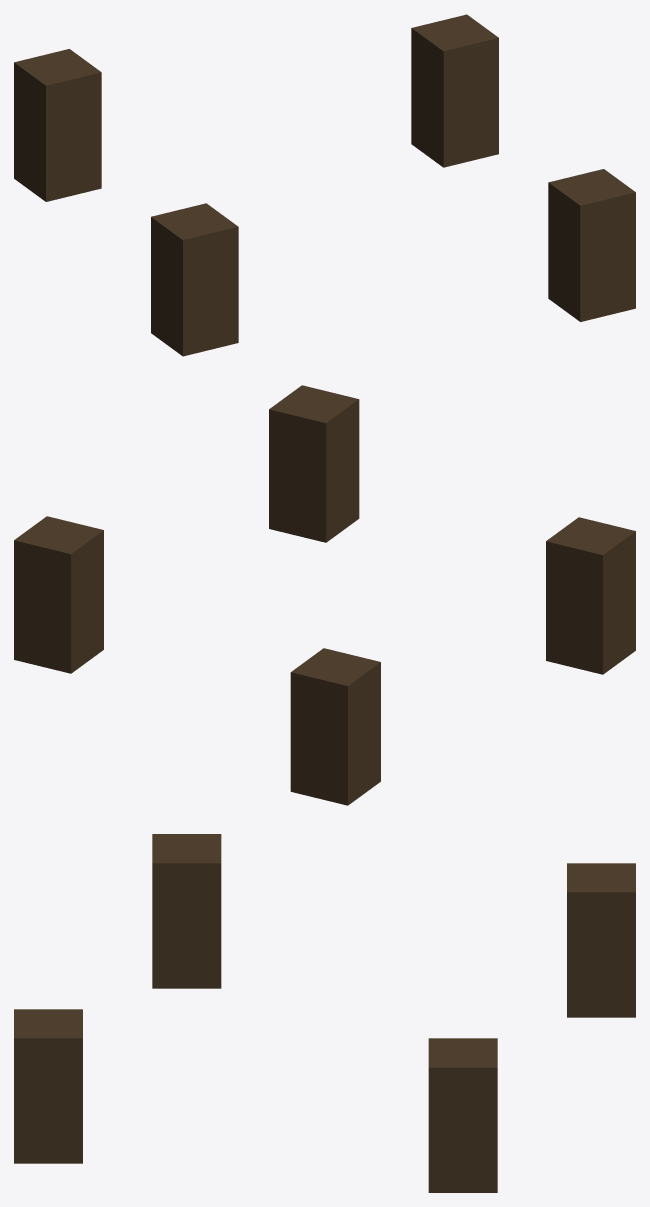
The model's file is flowers_2_winter.glb.
3 renders of one model, top to bottom at view 1: azimuth 30°, elevation 25°; view 2: azimuth 150°, elevation 25°; view 3: azimuth 270°, elevation 25°, orthographic. The views are drawn at different scales.
Parts seen in each view (by area): view 1: flowers_2_winter; view 2: flowers_2_winter; view 3: flowers_2_winter.
Part boxes in pixels (x1,y1,x2,y2): flowers_2_winter: (14, 14, 635, 356); flowers_2_winter: (14, 385, 635, 805); flowers_2_winter: (14, 834, 635, 1192).
Bounding box in the file's own units: 1 × 0.25 × 1.12.
